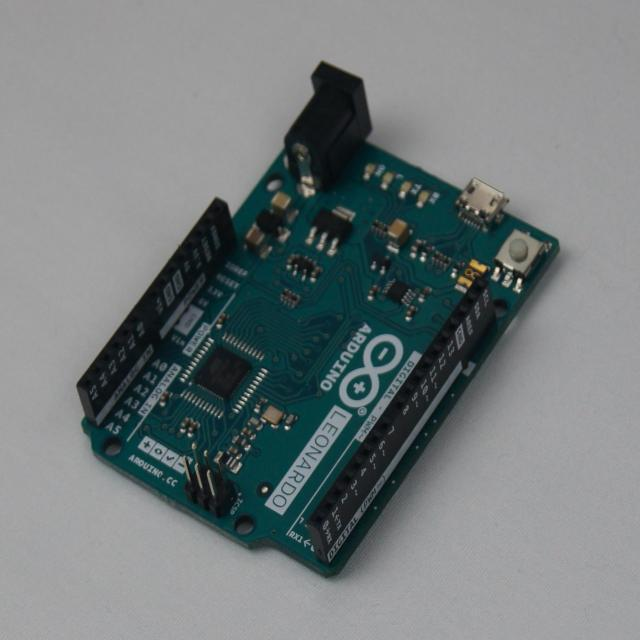Arduino-leonardo: (78, 64, 559, 576)
